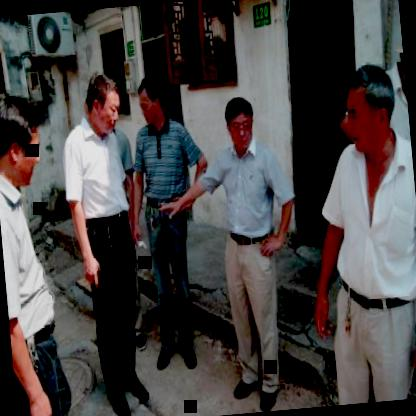head: (342, 58, 402, 155), (0, 87, 47, 192), (84, 66, 124, 138), (220, 93, 260, 156), (134, 70, 171, 130)
